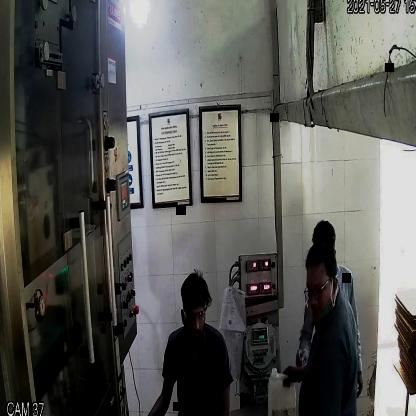goggles: (303, 279, 335, 303), (181, 307, 208, 327)
